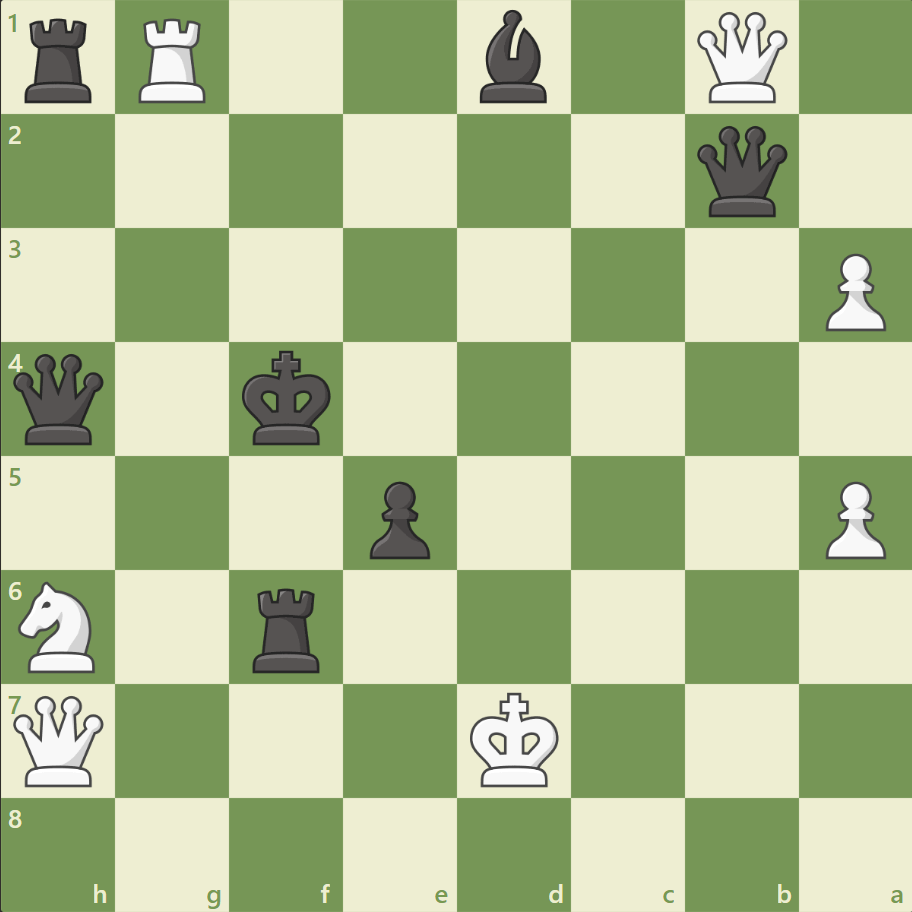K: (465, 685, 565, 793)
N: (11, 575, 108, 677)
P: (815, 473, 889, 564), (815, 246, 889, 337)
Q: (10, 690, 109, 789), (691, 9, 790, 108)
R: (133, 12, 215, 109)
b: (471, 6, 555, 109)
k: (238, 344, 338, 452)
p: (361, 473, 435, 564)
q: (10, 349, 109, 449), (691, 122, 790, 222)
r: (246, 579, 329, 676), (19, 12, 102, 109)
